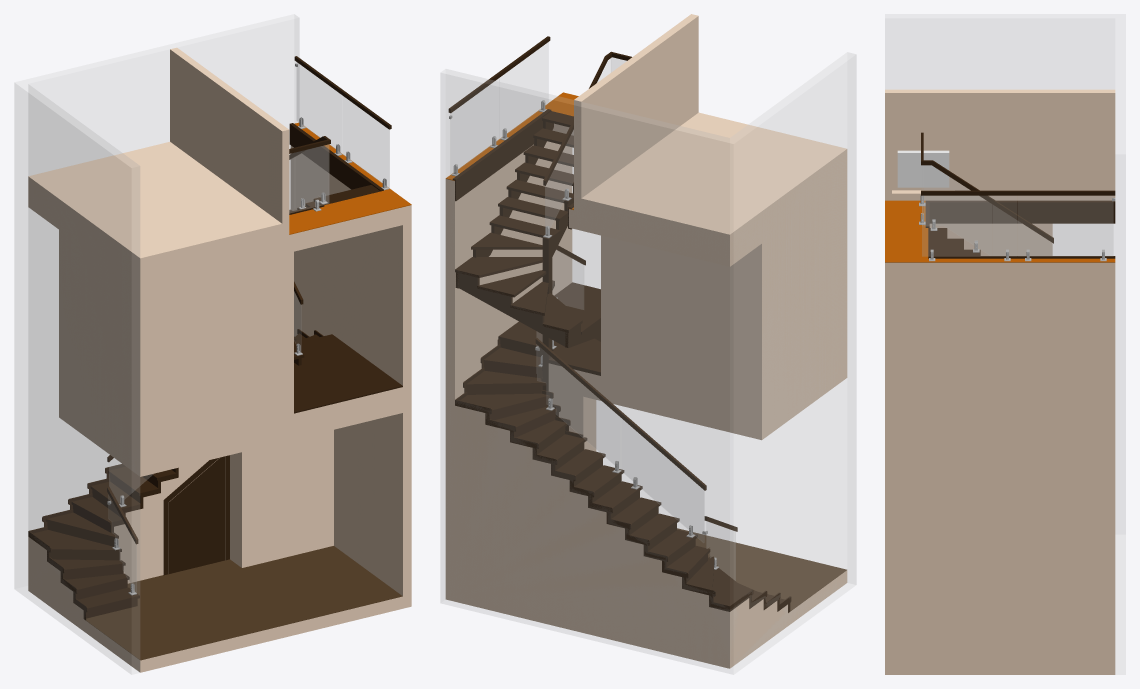
The model's file is Ограждение лестницы_вар1.obj.
3 views of the same model, side by side, from view 1: azimuth 30°, elevation 25°; view 2: azimuth 150°, elevation 25°; view 3: azimuth 270°, elevation 25° (orthographic). The views are drawn at different scales.
Size of the model in its own units: 4.76 by 8.23 by 3.45.
